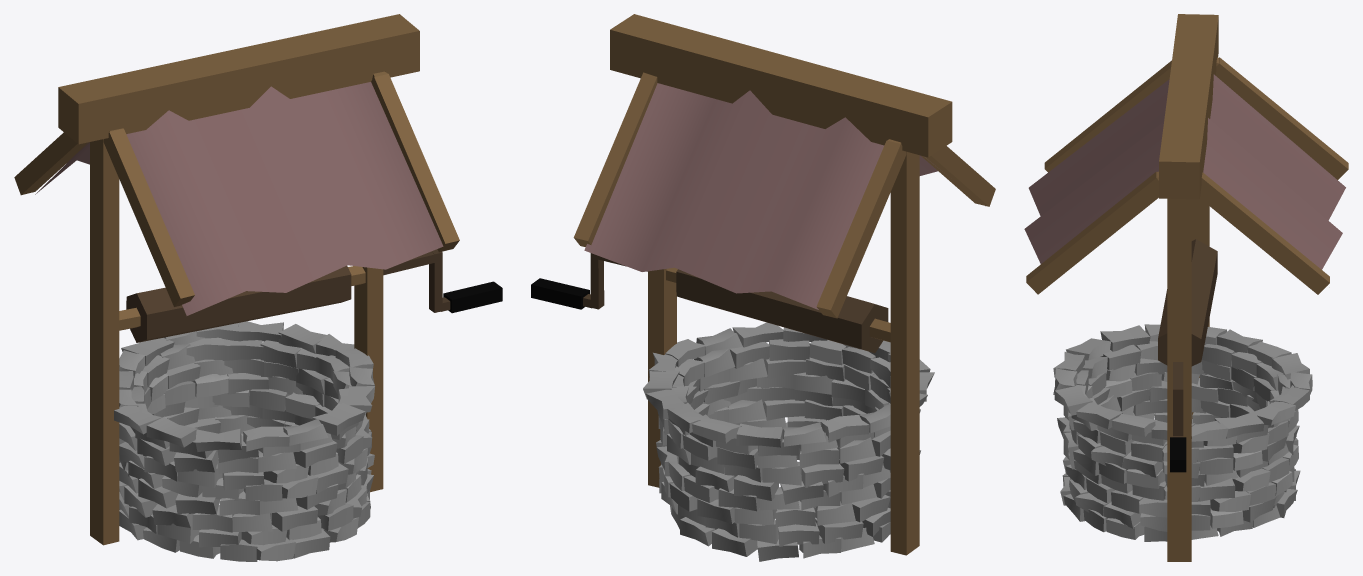
Rendered from well.fbx.
3 renders of one model, left to right at view 1: azimuth 30°, elevation 25°; view 2: azimuth 150°, elevation 25°; view 3: azimuth 270°, elevation 25°, orthographic. The views are drawn at different scales.
Visible parts, largest first — view 1: pPlane1, pCube81, pCube71, pCube67, pCube69, pCube68, pCube72, pCylinder3, pCube66, pCube64, pCube65, pCube79 (+8 smaller); view 2: pPlane2, pCube81, pCube71, pCube67, pCube69, pCube68, pCube72, pCylinder3, pCube65, pCube66, pCube64, pCube80 (+8 smaller); view 3: pPlane2, pPlane1, pCube67, pCube81, pCube70, pCube69, pCube68, pCube66, pCube72, pCube65, pCube64, pCube78 (+9 smaller).
Boxes of the visible parts, bbox=[...] form: pPlane1: bbox=[126, 82, 443, 315]; pCube81: bbox=[58, 14, 419, 144]; pCube71: bbox=[90, 139, 119, 545]; pCube67: bbox=[114, 321, 374, 451]; pCube69: bbox=[119, 359, 363, 473]; pCube68: bbox=[119, 373, 372, 490]; pCube72: bbox=[130, 337, 358, 462]; pCylinder3: bbox=[126, 265, 351, 342]; pCube66: bbox=[119, 389, 371, 501]; pCube64: bbox=[119, 415, 374, 532]; pCube65: bbox=[119, 405, 359, 516]; pCube79: bbox=[103, 128, 194, 306]; pPlane2: bbox=[584, 83, 884, 309]; pCube81: bbox=[610, 14, 952, 157]; pCube71: bbox=[890, 151, 919, 555]; pCube67: bbox=[643, 322, 934, 447]; pCube69: bbox=[657, 357, 920, 469]; pCube68: bbox=[658, 372, 890, 487]; pCube72: bbox=[668, 339, 890, 456]; pCylinder3: bbox=[676, 269, 888, 353]; pCube65: bbox=[656, 399, 920, 511]; pCube66: bbox=[676, 386, 890, 504]; pCube64: bbox=[658, 416, 890, 526]; pCube80: bbox=[816, 139, 906, 318]; pPlane2: bbox=[1203, 74, 1345, 269]; pPlane1: bbox=[1024, 79, 1169, 263]; pCube67: bbox=[1053, 324, 1312, 441]; pCube81: bbox=[1159, 14, 1218, 199]; pCube70: bbox=[1167, 198, 1191, 561]; pCube69: bbox=[1063, 358, 1298, 463]; pCube68: bbox=[1069, 372, 1287, 478]; pCube66: bbox=[1057, 378, 1299, 488]; pCube72: bbox=[1069, 341, 1290, 447]; pCube65: bbox=[1063, 398, 1298, 501]; pCube64: bbox=[1063, 412, 1294, 517]; pCube78: bbox=[1026, 171, 1158, 294].
Size of the model in its own units: 784 by 810 by 574.
